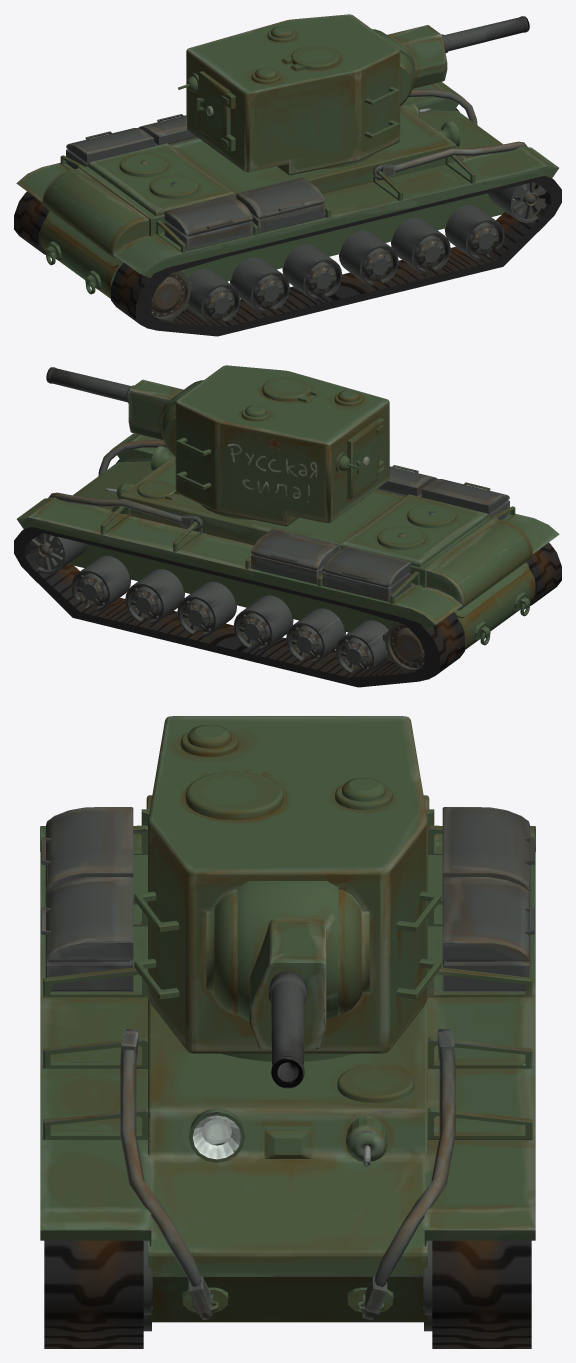
The picture shows the model from 3 angles, top to bottom: view 1: azimuth 30°, elevation 25°; view 2: azimuth 150°, elevation 25°; view 3: azimuth 270°, elevation 25°; orthographic projection. The views are drawn at different scales.
Visible parts, largest first — view 1: RU_canon; view 2: RU_canon; view 3: RU_canon.
Part boxes in pixels (bbox=[...]): RU_canon: bbox=[14, 14, 561, 336]; RU_canon: bbox=[14, 365, 561, 687]; RU_canon: bbox=[40, 716, 535, 1348].
Bounding box in the file's own units: 13.82 × 6.14 × 6.47.
Materials: 19 (19 with a texture image).
